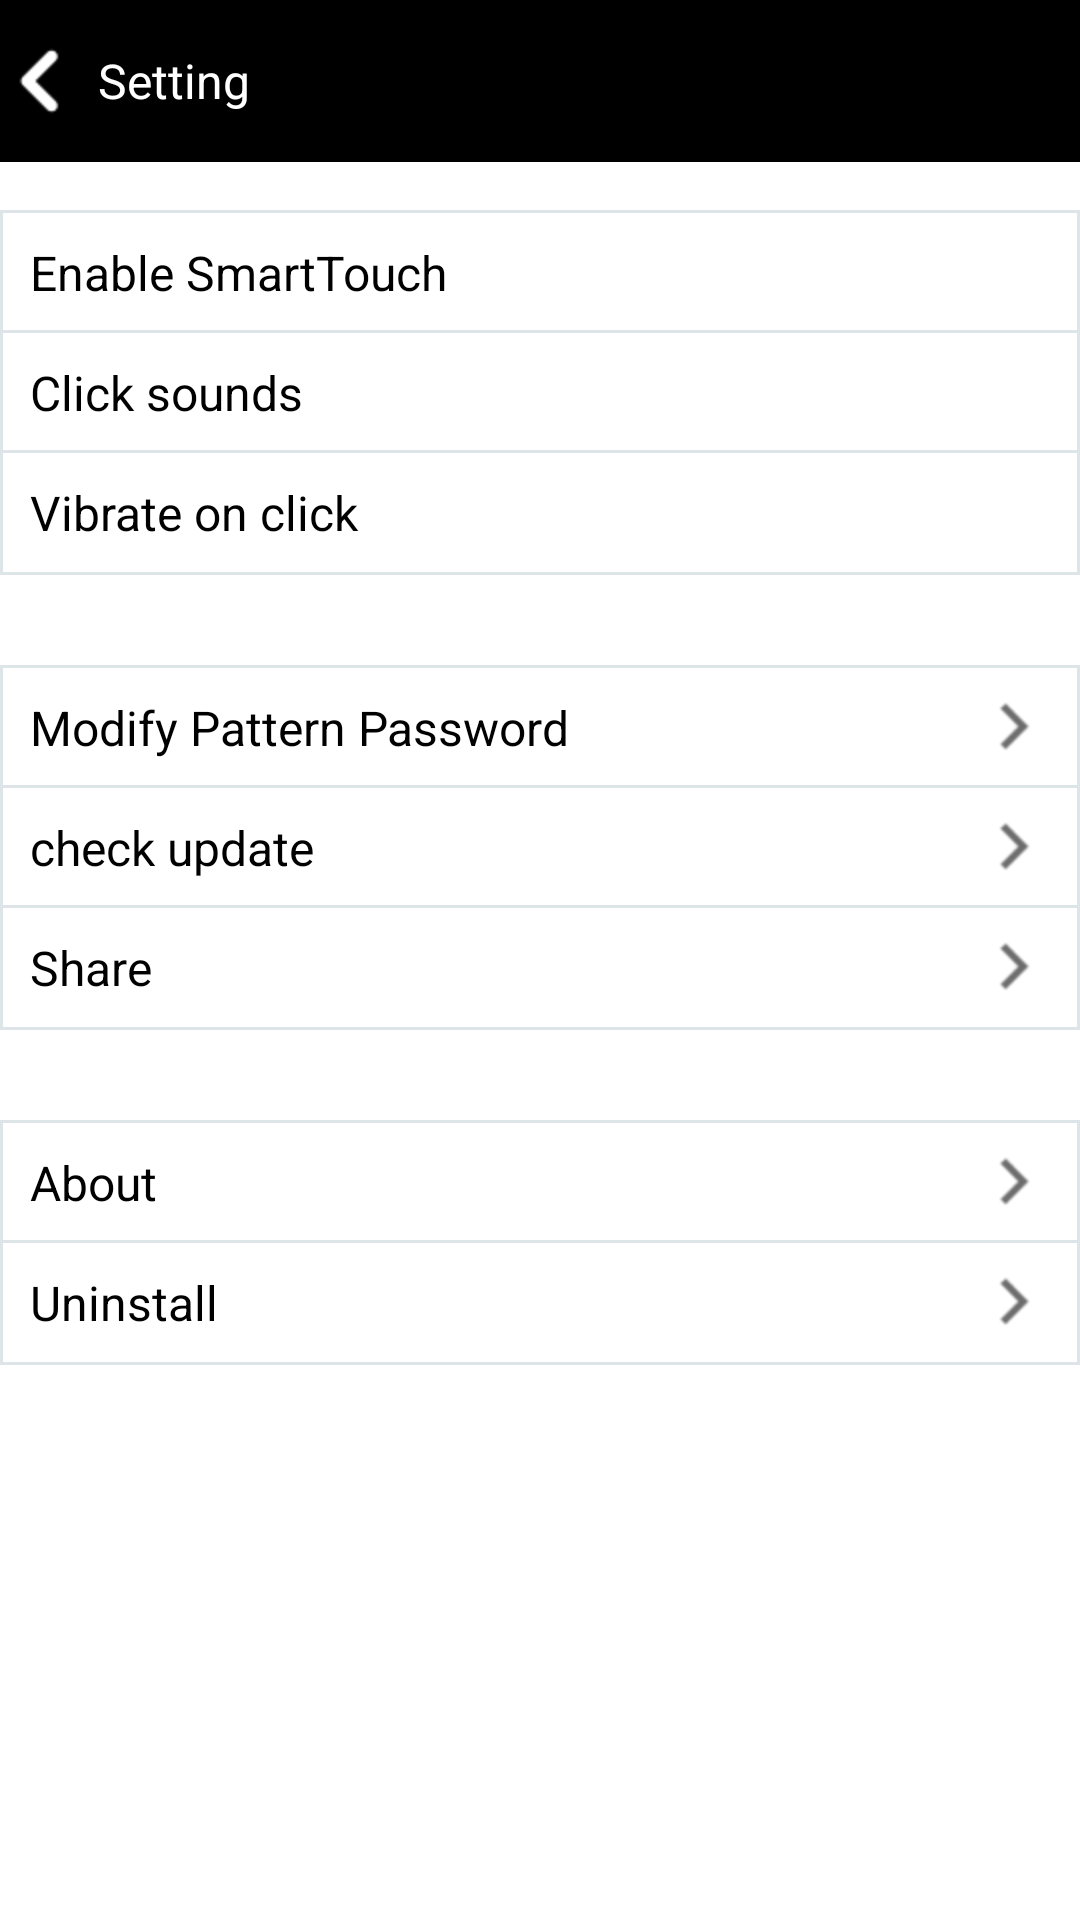

Point at icon controls on the screen. Image size 1080*1920, points as (x=x, y=y).
smartkey back: (x=39, y=81)
smartkey event next: (x=1014, y=726), (x=1014, y=846), (x=1014, y=966), (x=1014, y=1181), (x=1014, y=1301)
